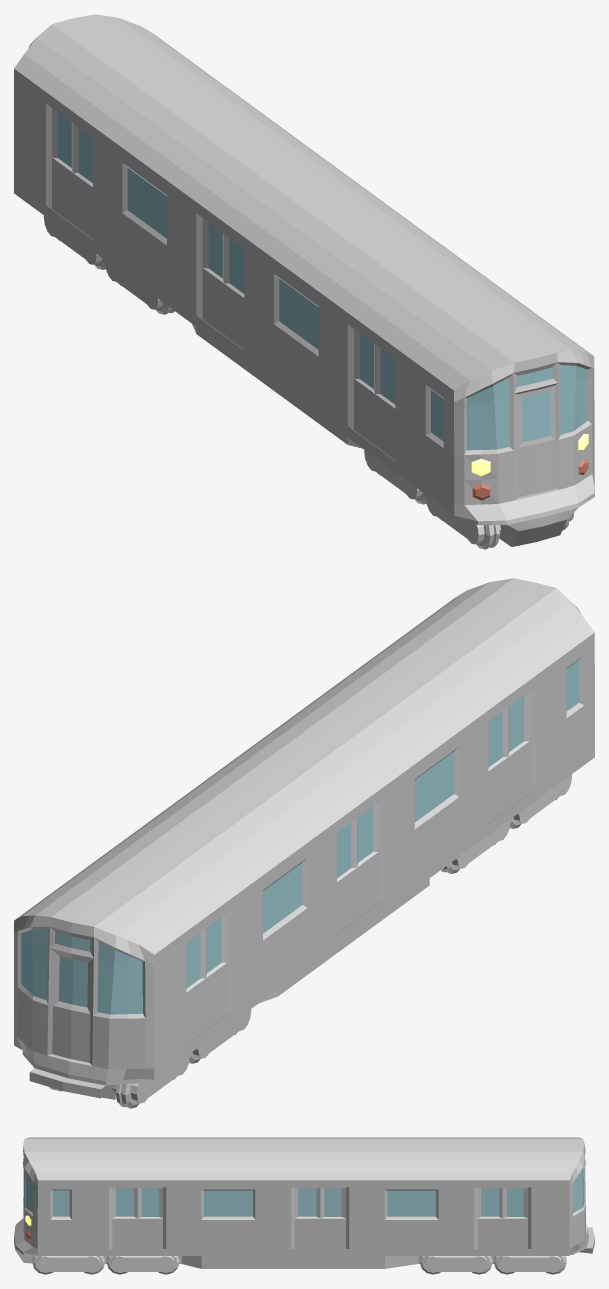
Rendered from SubwayCar.fbx.
3 views of the same model, one above another, from view 1: azimuth 30°, elevation 25°; view 2: azimuth 150°, elevation 25°; view 3: azimuth 270°, elevation 25° (orthographic). The views are drawn at different scales.
Parts seen in each view (by area): view 1: Cube, Cube.003, Cube.002, Cube.004, Cube.001; view 2: Cube, Cube.001, Cube.004, Cube.002, Cube.003; view 3: Cube, Cube.006, Cube.005, Cube.007, Cube.008.
Part boxes in pixels (<box>): Cube: <box>14,14,594,546</box>; Cube.003: <box>425,495,500,549</box>; Cube.002: <box>105,260,174,314</box>; Cube.004: <box>364,450,426,504</box>; Cube.001: <box>43,215,105,269</box>; Cube: <box>14,578,594,1099</box>; Cube.001: <box>111,1054,189,1108</box>; Cube.004: <box>441,819,510,873</box>; Cube.002: <box>189,1009,251,1063</box>; Cube.003: <box>509,774,571,828</box>; Cube: <box>14,1137,594,1268</box>; Cube.006: <box>32,1255,105,1274</box>; Cube.005: <box>106,1256,179,1274</box>; Cube.007: <box>419,1256,492,1274</box>; Cube.008: <box>493,1256,566,1274</box>.
Bounding box in the file's own units: 49.32 × 293 × 65.23.
